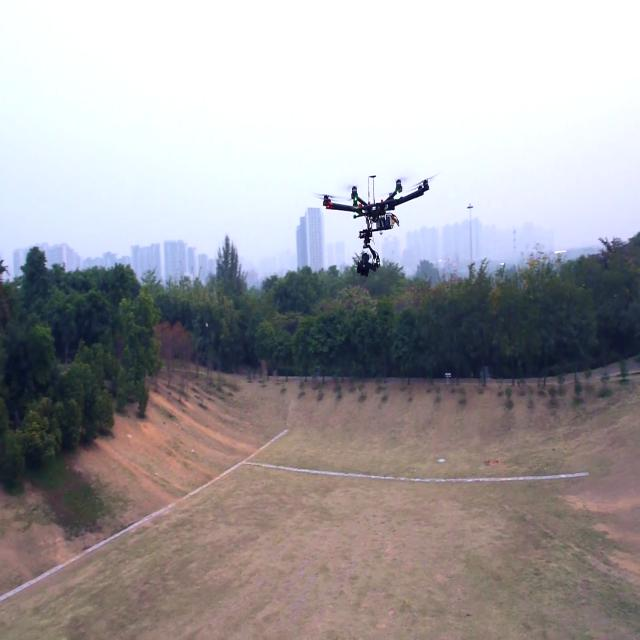drone: (315, 160, 443, 275)
